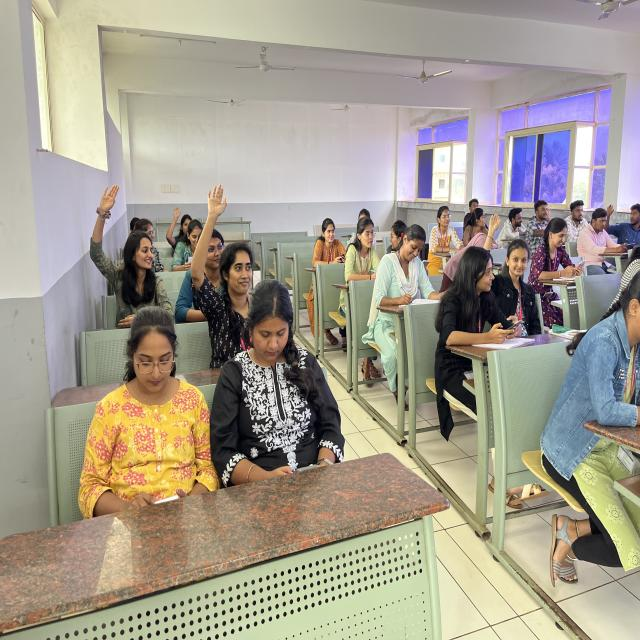Hand Rising: (92, 180, 170, 311), (191, 186, 244, 320), (479, 210, 533, 311), (603, 200, 640, 253), (167, 203, 185, 250)
Using Phone: (96, 306, 228, 524), (214, 274, 347, 490), (441, 244, 524, 351), (529, 218, 589, 284), (578, 206, 629, 262), (314, 216, 348, 276)
Writing: (377, 220, 439, 320), (348, 219, 380, 283)
